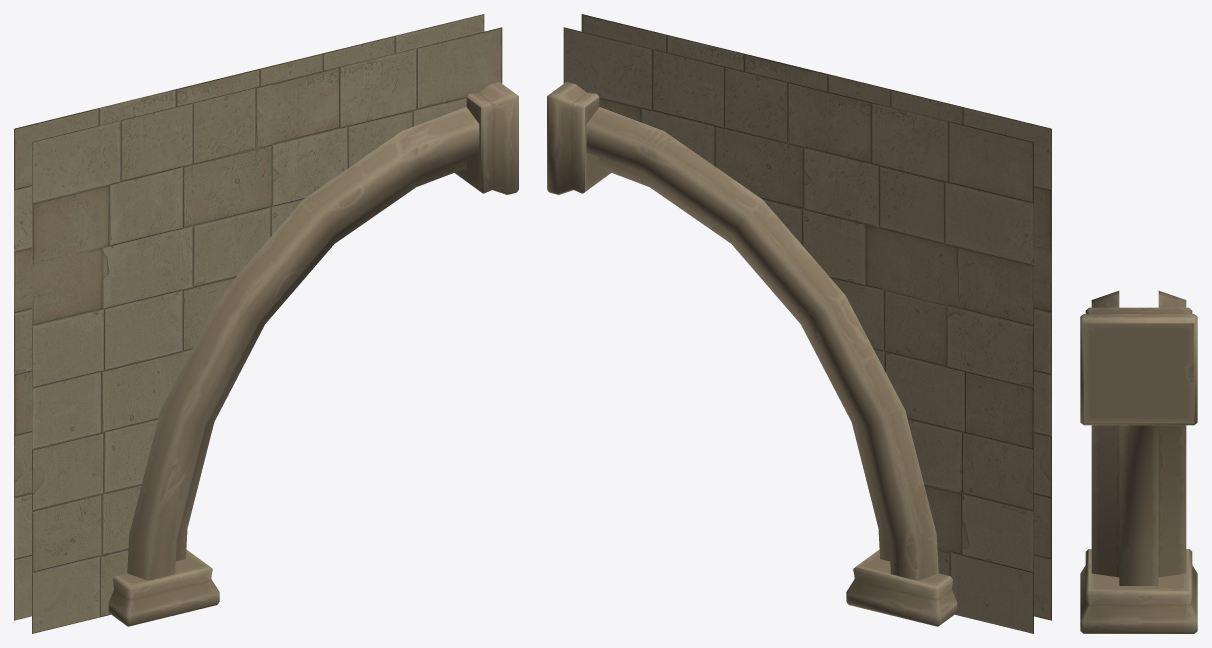
File: ARC0510018.fbx
3 views of the same model, side by side, from view 1: azimuth 30°, elevation 25°; view 2: azimuth 150°, elevation 25°; view 3: azimuth 270°, elevation 25° (orthographic). The views are drawn at different scales.
Visible parts, largest first — view 1: smARC0510018; view 2: smARC0510018; view 3: smARC0510018.
Part boxes in pixels (x1,y1,x2,y2): smARC0510018: [14, 14, 518, 633]; smARC0510018: [547, 14, 1051, 633]; smARC0510018: [1080, 291, 1197, 633].
Bounding box in the file's own units: 300 × 300 × 60.18.
1 material, 1 textured.
